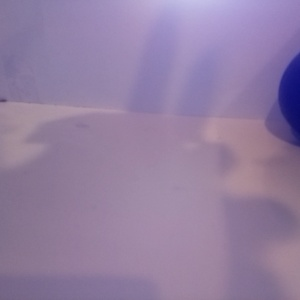dead_ball: (275, 46, 300, 131)
